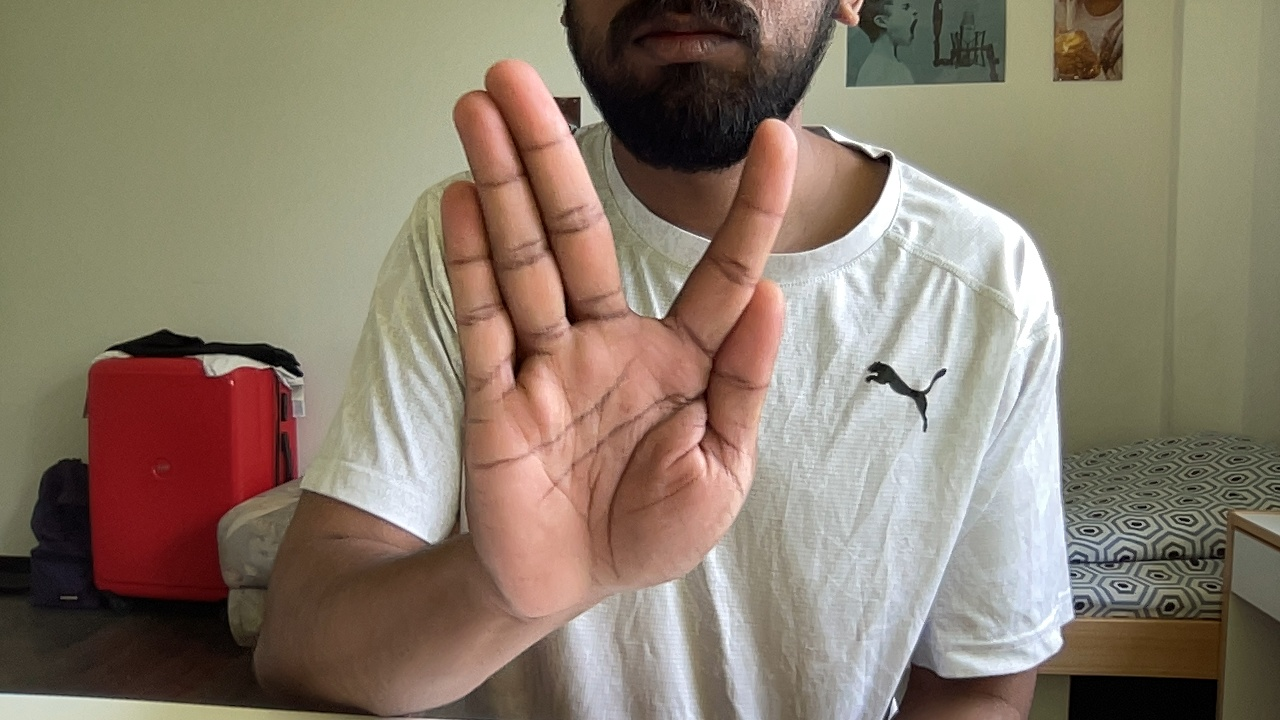LiveLong: (435, 55, 799, 618)
